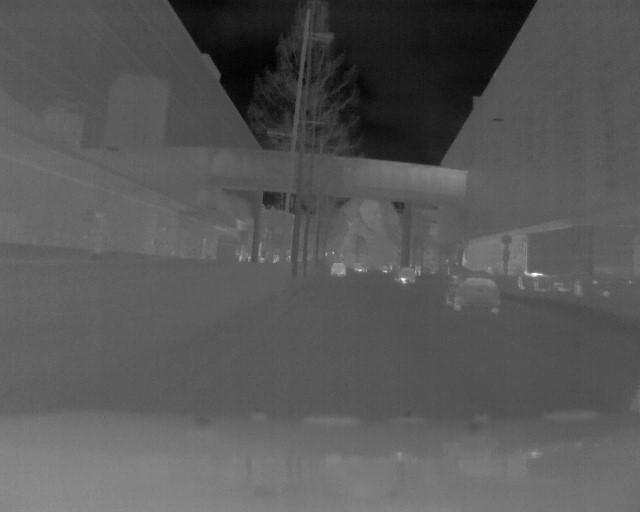car: (448, 275, 501, 315), (395, 265, 416, 285), (330, 261, 347, 277)
